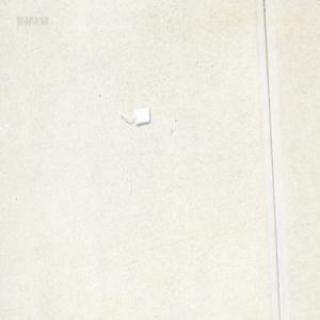LuggageTagtrack_idkeyframe: (116, 105, 151, 124)
